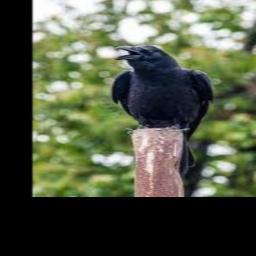Crow: (110, 45, 214, 180)
